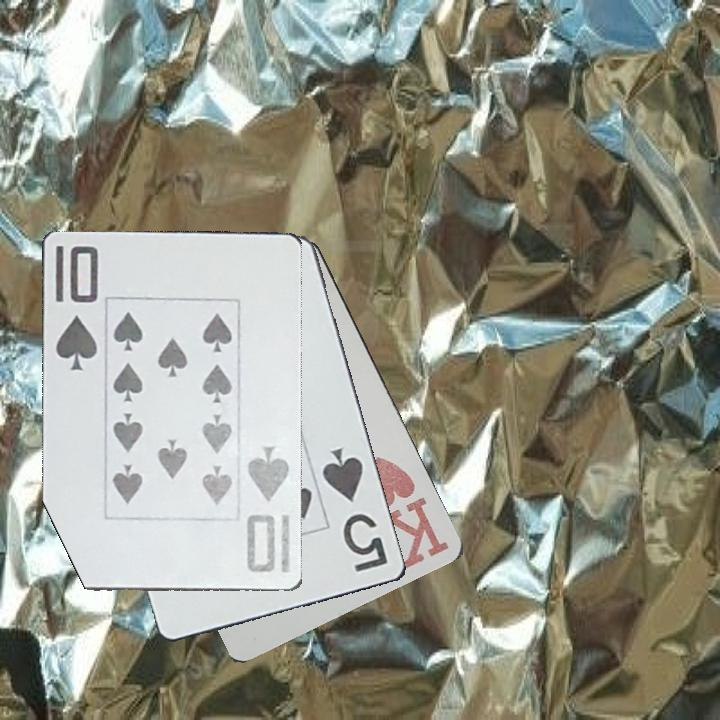5s: (319, 445, 391, 576)
Kh: (365, 453, 453, 571)
Ts: (52, 242, 102, 374), (244, 445, 293, 576)
